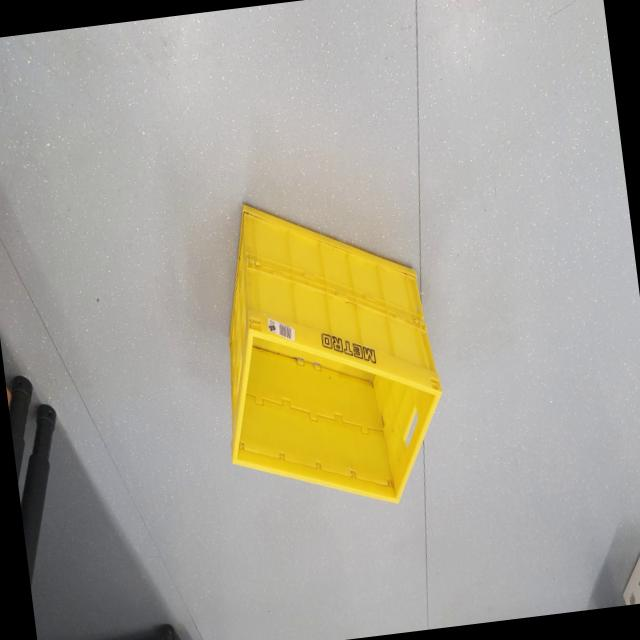box: (187, 144, 460, 550)
